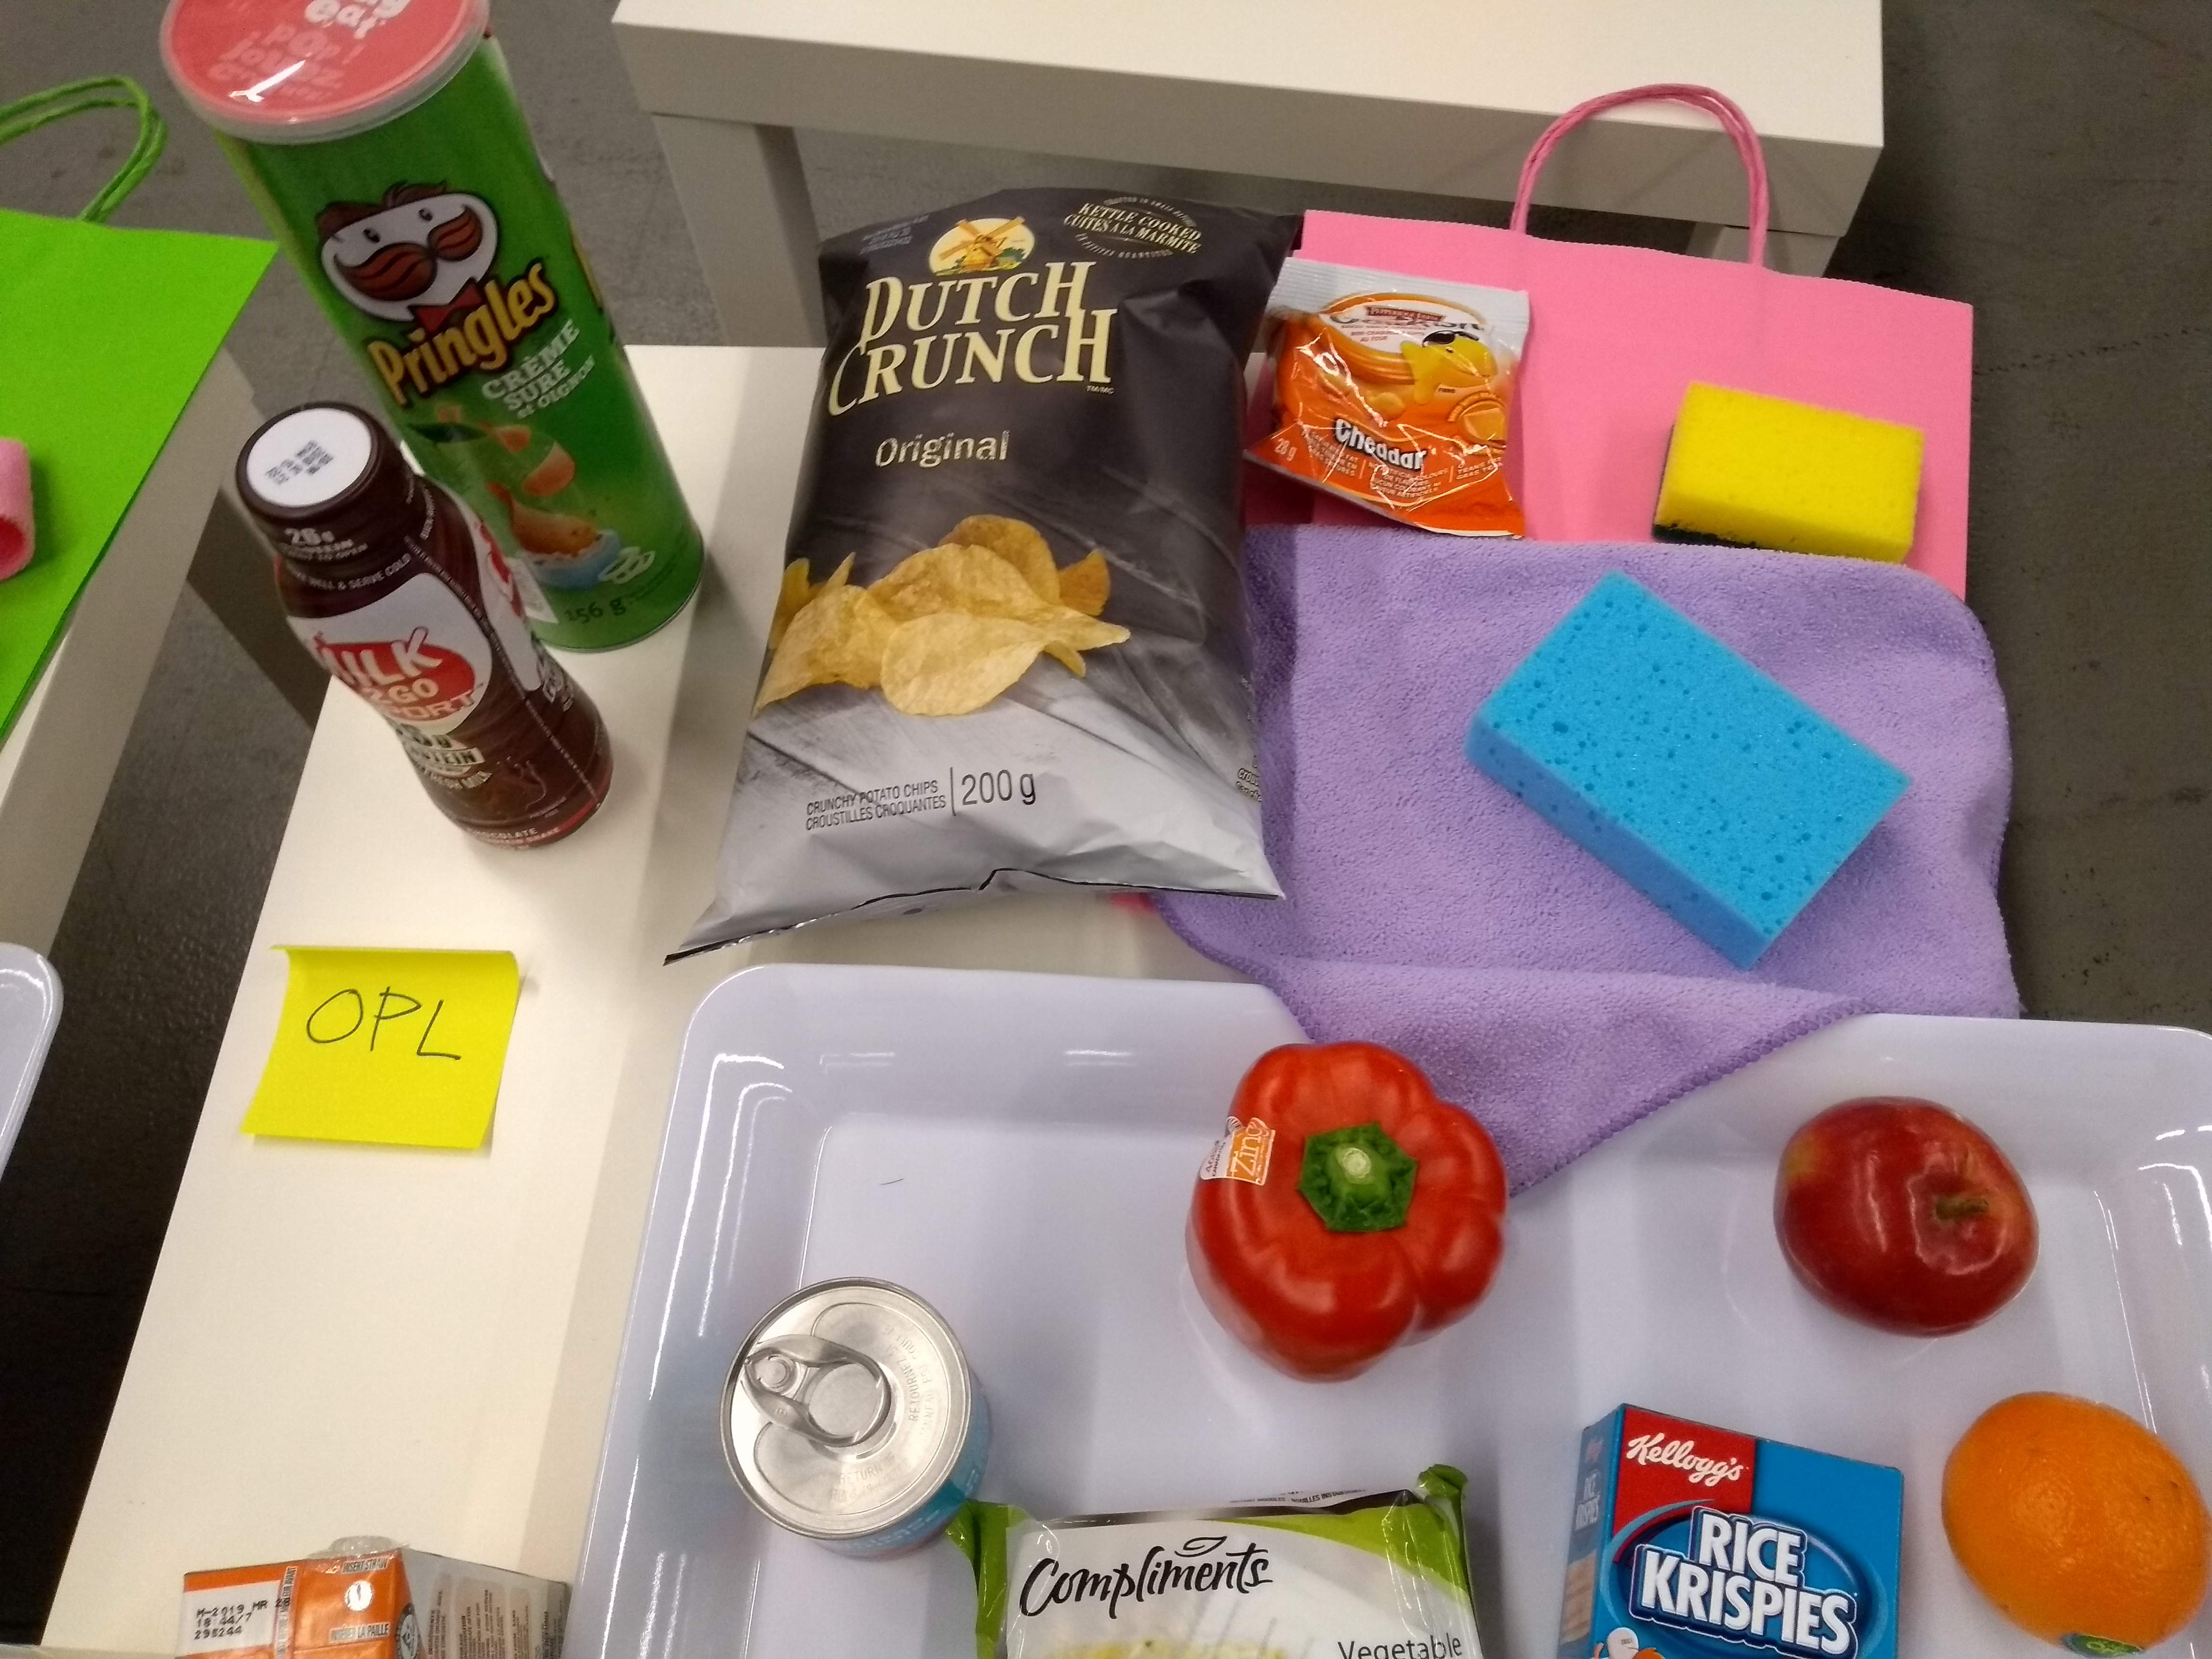apple: (1764, 1080, 2047, 1351)
chocolate_drink: (230, 392, 624, 864)
crackers: (1237, 253, 1548, 547)
orange: (1930, 1387, 2210, 1659)
paprika: (1174, 1030, 1526, 1396)
potato_chips: (664, 178, 1317, 976)
pringles: (150, 0, 707, 659)
sausages: (707, 1260, 1007, 1570)
scrubby: (1637, 376, 1937, 589)
sponge_opl: (1453, 559, 1916, 979)
